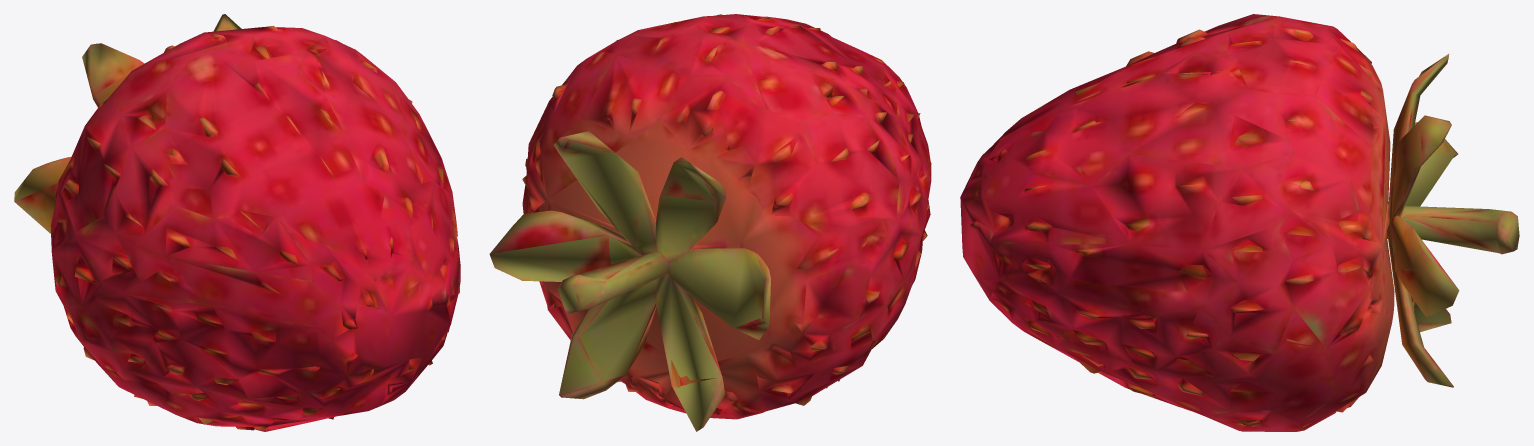
The picture shows the model from 3 angles, left to right: view 1: azimuth 30°, elevation 25°; view 2: azimuth 150°, elevation 25°; view 3: azimuth 270°, elevation 25°; orthographic projection. The views are drawn at different scales.
Visible parts, largest first — view 1: material; view 2: material; view 3: material.
Boxes of the visible parts, x1=… form: material: x1=14, y1=14, x2=460, y2=431; material: x1=489, y1=14, x2=931, y2=431; material: x1=960, y1=14, x2=1519, y2=431.
Bounding box in the file's own units: 0.7523 × 0.7497 × 1.
1 material, 1 textured.
